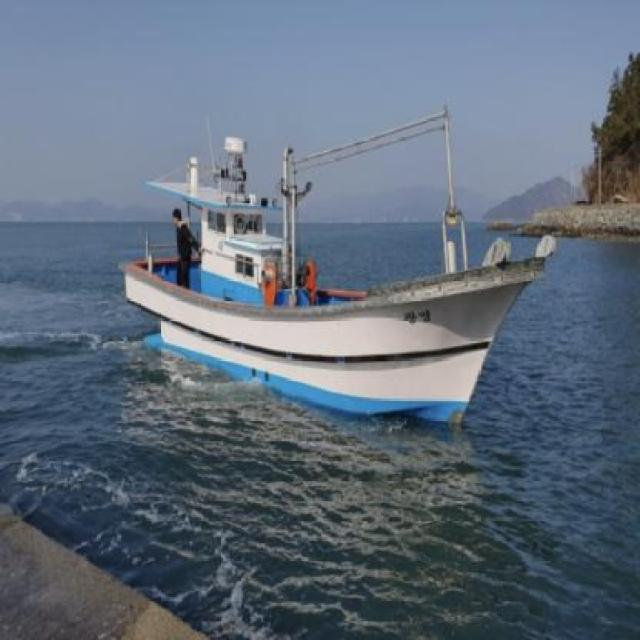fish-b: (116, 91, 563, 454)
